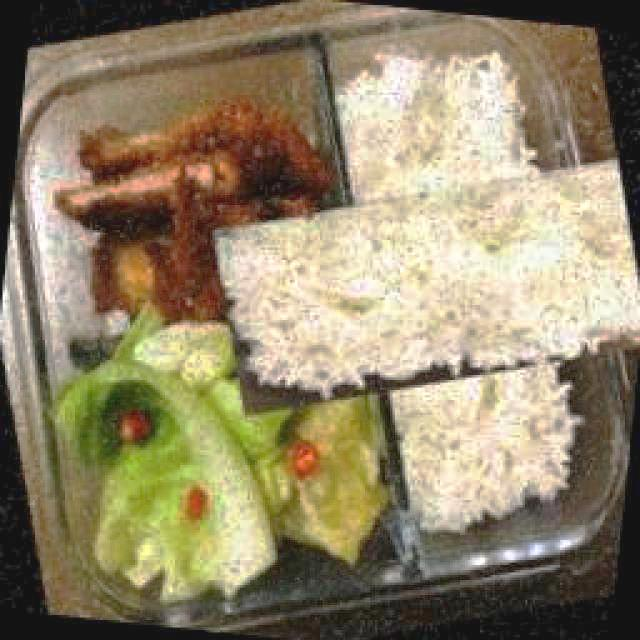chinese_cabbage: (59, 336, 369, 585)
rice: (224, 233, 640, 348), (337, 53, 531, 184), (395, 387, 583, 513), (349, 180, 621, 253), (255, 338, 447, 389)
